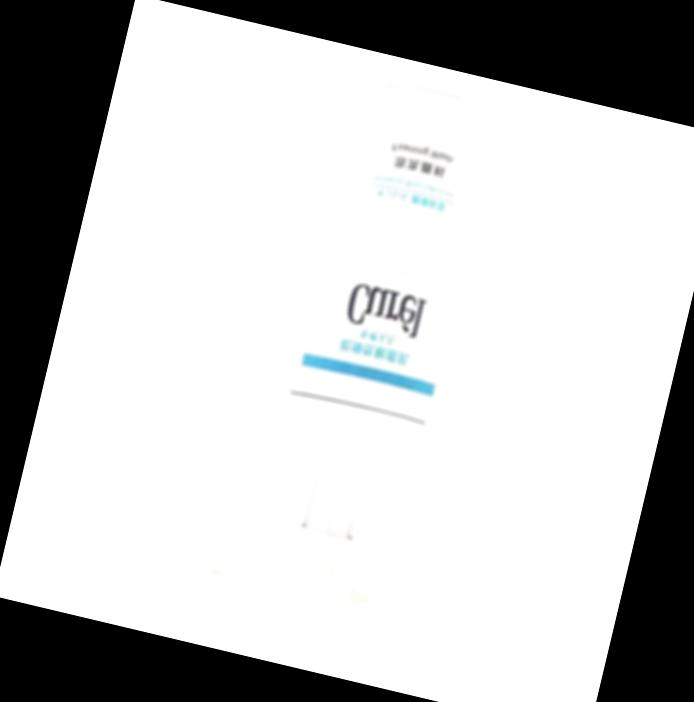cosmetic: (199, 68, 533, 650)
